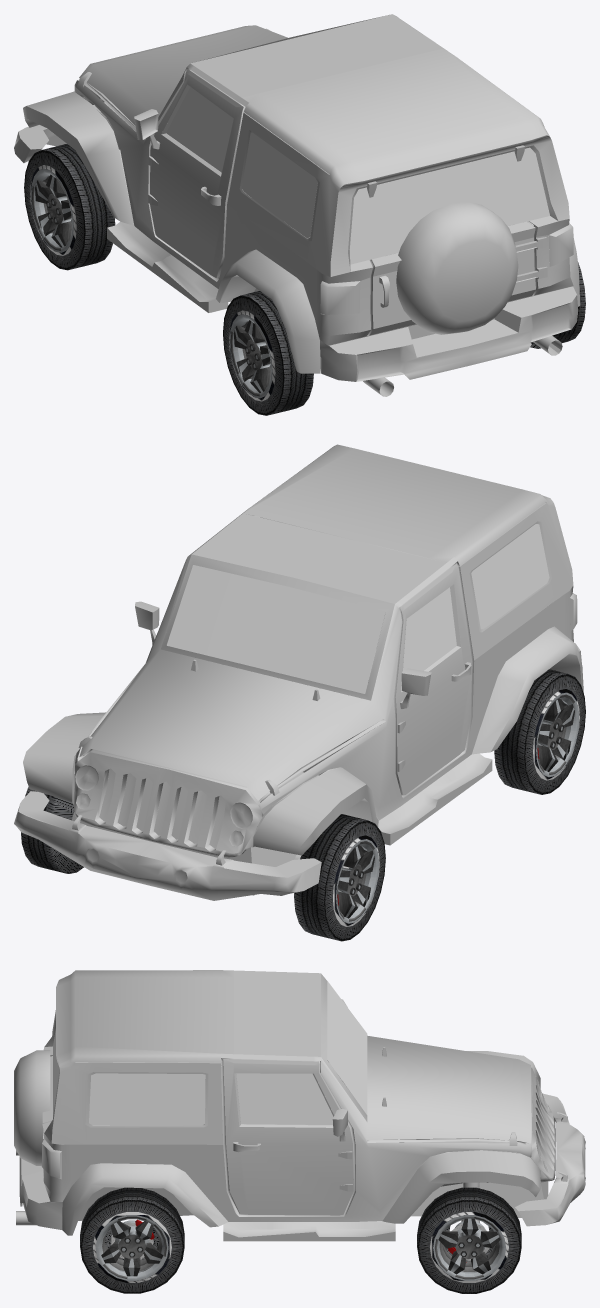
The picture shows the model from 3 angles, top to bottom: view 1: azimuth 30°, elevation 25°; view 2: azimuth 150°, elevation 25°; view 3: azimuth 270°, elevation 25°; orthographic projection. The views are drawn at different scales.
Visible parts, largest first — view 1: 2012 offroader interior, 2012 offroader body, 2012 offroader interior.001, 2012 offroader interior.003, 2012 offroader glass.001, 2012 offroader tire, 2012 offroader tire.001, 2012 offroader glass.005, 2012 offroader glass.004, 2012 offroader interior.002, 2012 offroader tire.002; view 2: 2012 offroader body, 2012 offroader interior, 2012 offroader glass.002, 2012 offroader interior.002, 2012 offroader tire, 2012 offroader tire.001, 2012 offroader glass.005, 2012 offroader glass.004, 2012 offroader tire.003; view 3: 2012 offroader body, 2012 offroader interior, 2012 offroader tire.002, 2012 offroader tire.003, 2012 offroader glass.006, 2012 offroader glass.003, 2012 offroader interior.002, 2012 offroader interior.001, 2012 offroader glass.002, 2012 offroader interior.003.
Part boxes in pixels (left/top/right/bottom): 2012 offroader interior: left=23, top=16, right=580, bottom=373; 2012 offroader body: left=74, top=14, right=573, bottom=345; 2012 offroader interior.001: left=396, top=202, right=518, bottom=334; 2012 offroader interior.003: left=320, top=286, right=578, bottom=396; 2012 offroader glass.001: left=349, top=147, right=549, bottom=264; 2012 offroader tire: left=24, top=144, right=115, bottom=270; 2012 offroader tire.001: left=223, top=291, right=313, bottom=415; 2012 offroader glass.005: left=242, top=132, right=317, bottom=237; 2012 offroader glass.004: left=166, top=87, right=233, bottom=172; 2012 offroader interior.002: left=14, top=125, right=66, bottom=162; 2012 offroader tire.002: left=530, top=262, right=585, bottom=348; 2012 offroader body: left=72, top=508, right=573, bottom=857; 2012 offroader interior: left=23, top=444, right=583, bottom=895; 2012 offroader glass.002: left=167, top=565, right=385, bottom=693; 2012 offroader interior.002: left=14, top=791, right=321, bottom=900; 2012 offroader tire: left=294, top=814, right=385, bottom=941; 2012 offroader tire.001: left=494, top=669, right=585, bottom=794; 2012 offroader glass.005: left=471, top=524, right=549, bottom=628; 2012 offroader glass.004: left=401, top=587, right=456, bottom=686; 2012 offroader tire.003: left=21, top=786, right=83, bottom=873; 2012 offroader body: left=42, top=970, right=555, bottom=1221; 2012 offroader interior: left=41, top=970, right=562, bottom=1241; 2012 offroader tire.002: left=80, top=1187, right=184, bottom=1293; 2012 offroader tire.003: left=417, top=1187, right=521, bottom=1293; 2012 offroader glass.006: left=89, top=1073, right=205, bottom=1125; 2012 offroader glass.003: left=236, top=1073, right=333, bottom=1124; 2012 offroader interior.002: left=515, top=1093, right=585, bottom=1226; 2012 offroader interior.001: left=14, top=1050, right=50, bottom=1165; 2012 offroader glass.002: left=327, top=981, right=367, bottom=1114; 2012 offroader interior.003: left=16, top=1150, right=62, bottom=1229.
Size of the model in its own units: 294 by 231 by 547.
